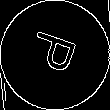P_E: (25, 29, 85, 81)
